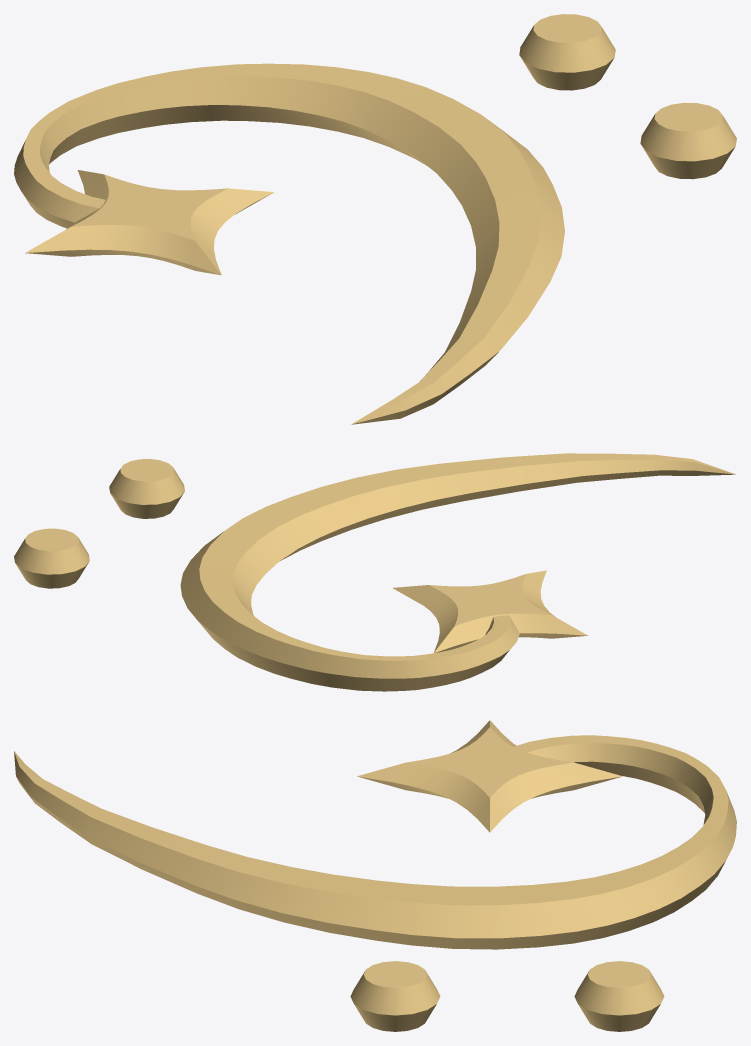
The model's file is Sigil34.fbx.
3 renders of one model, top to bottom at view 1: azimuth 30°, elevation 25°; view 2: azimuth 150°, elevation 25°; view 3: azimuth 270°, elevation 25°, orthographic. The views are drawn at different scales.
Parts seen in each view (by area): view 1: Sigil_34; view 2: Sigil_34; view 3: Sigil_34.
Boxes of the visible parts, box(x1,y1,x2,y2) form: Sigil_34: box(14, 14, 736, 424); Sigil_34: box(14, 453, 735, 691); Sigil_34: box(14, 720, 736, 1031).
Bounding box in the file's own units: 0.0986 × 0.00693 × 0.1019.
